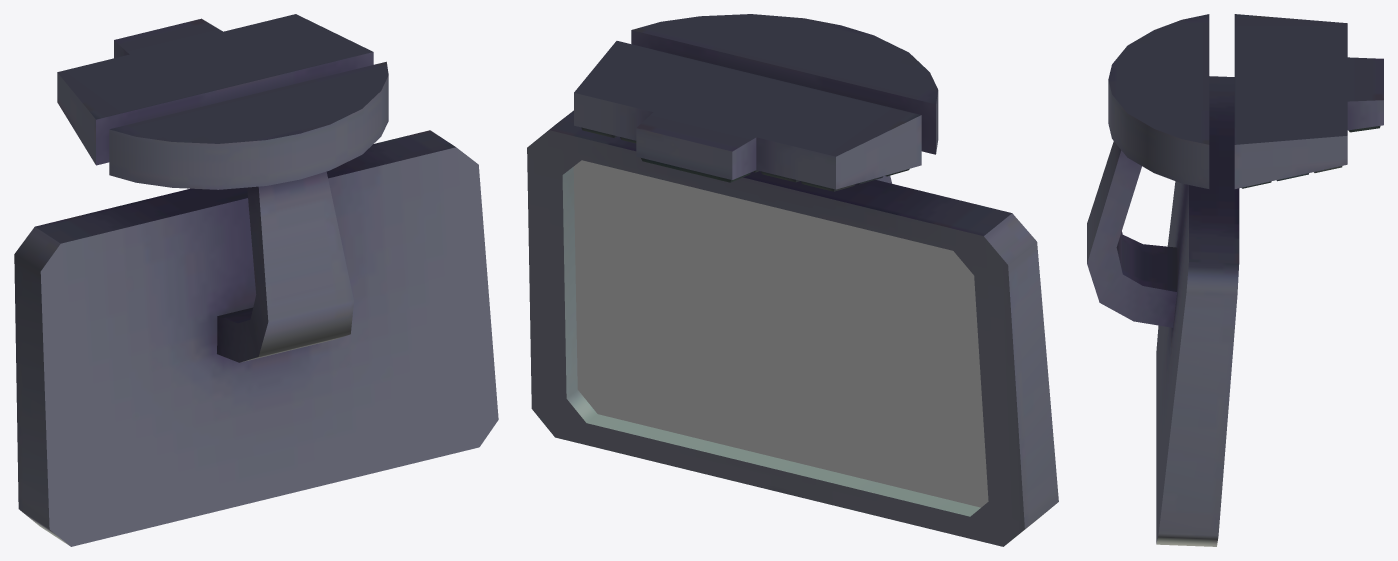
Rendered from Computer.fbx.
3 views of the same model, side by side, from view 1: azimuth 30°, elevation 25°; view 2: azimuth 150°, elevation 25°; view 3: azimuth 270°, elevation 25° (orthographic). The views are drawn at different scales.
Parts seen in each view (by area): view 1: Computer; view 2: Computer, ComputerScreen; view 3: Computer.
Boxes of the visible parts, <box> form: Computer: <box>14,14,498,546</box>; Computer: <box>527,14,1058,546</box>; ComputerScreen: <box>573,160,988,507</box>; Computer: <box>1087,14,1383,546</box>.
Size of the model in its own units: 66.73 by 54.53 by 39.53.
